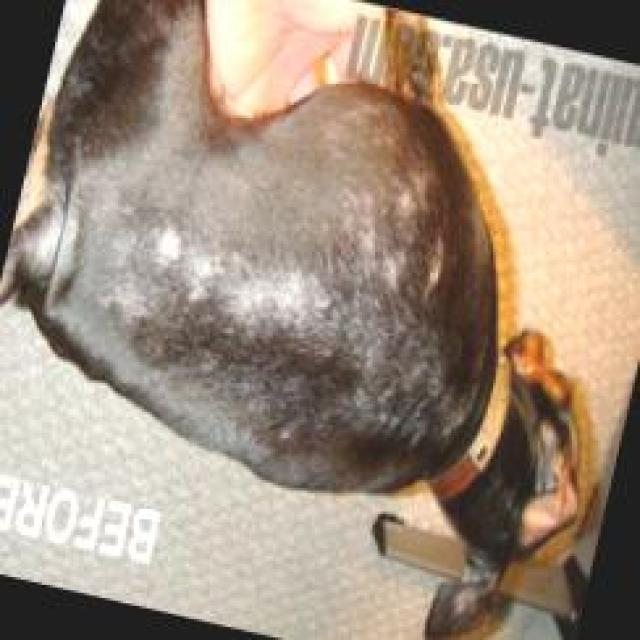fungal infection: (94, 198, 194, 322), (204, 252, 326, 332), (380, 166, 439, 219), (410, 235, 453, 298), (347, 215, 384, 262), (385, 248, 408, 294)
